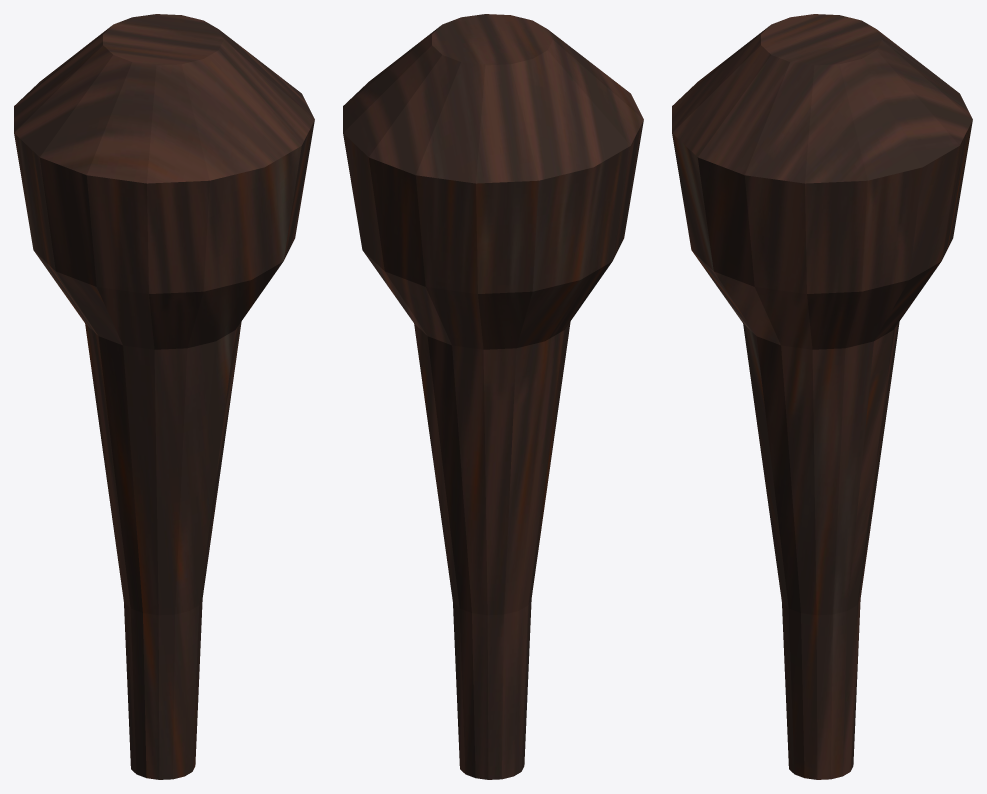
Rendered from club.fbx.
3 views of the same model, side by side, from view 1: azimuth 30°, elevation 25°; view 2: azimuth 150°, elevation 25°; view 3: azimuth 270°, elevation 25° (orthographic).
Visible parts, largest first — view 1: Cylinder; view 2: Cylinder; view 3: Cylinder.
Boxes of the visible parts, x1,y1,x2,y2 form: Cylinder: [14, 14, 314, 779]; Cylinder: [343, 14, 643, 779]; Cylinder: [672, 14, 972, 779].
Bounding box in the file's own units: 199 × 527 × 198.
